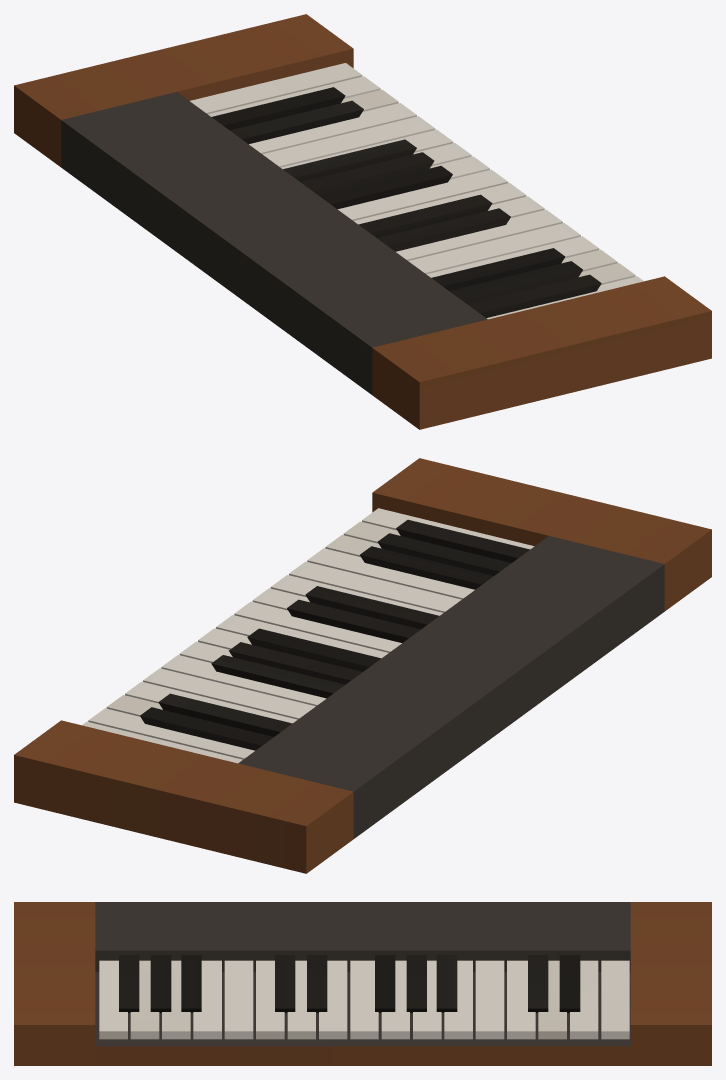
The model's file is SM_Piano.fbx.
3 views of the same model, one above another, from view 1: azimuth 30°, elevation 25°; view 2: azimuth 150°, elevation 25°; view 3: azimuth 270°, elevation 25° (orthographic). The views are drawn at different scales.
Visible parts, largest first — view 1: Cube, Teclas1, Teclas2; view 2: Cube, Teclas1, Teclas2; view 3: Cube, Teclas1, Teclas2.
Boxes of the visible parts, x1=… form: Cube: x1=14, y1=14, x2=711, y2=429; Teclas1: x1=190, y1=63, x2=643, y2=319; Teclas2: x1=212, y1=87, x2=601, y2=318; Cube: x1=14, y1=458, x2=711, y2=873; Teclas1: x1=82, y1=508, x2=534, y2=763; Teclas2: x1=140, y1=519, x2=529, y2=750; Cube: x1=14, y1=902, x2=711, y2=1065; Teclas1: x1=99, y1=960, x2=629, y2=1039; Teclas2: x1=119, y1=955, x2=580, y2=1012.
Bounding box in the file's own units: 41.2 × 6.41 × 98.95.
